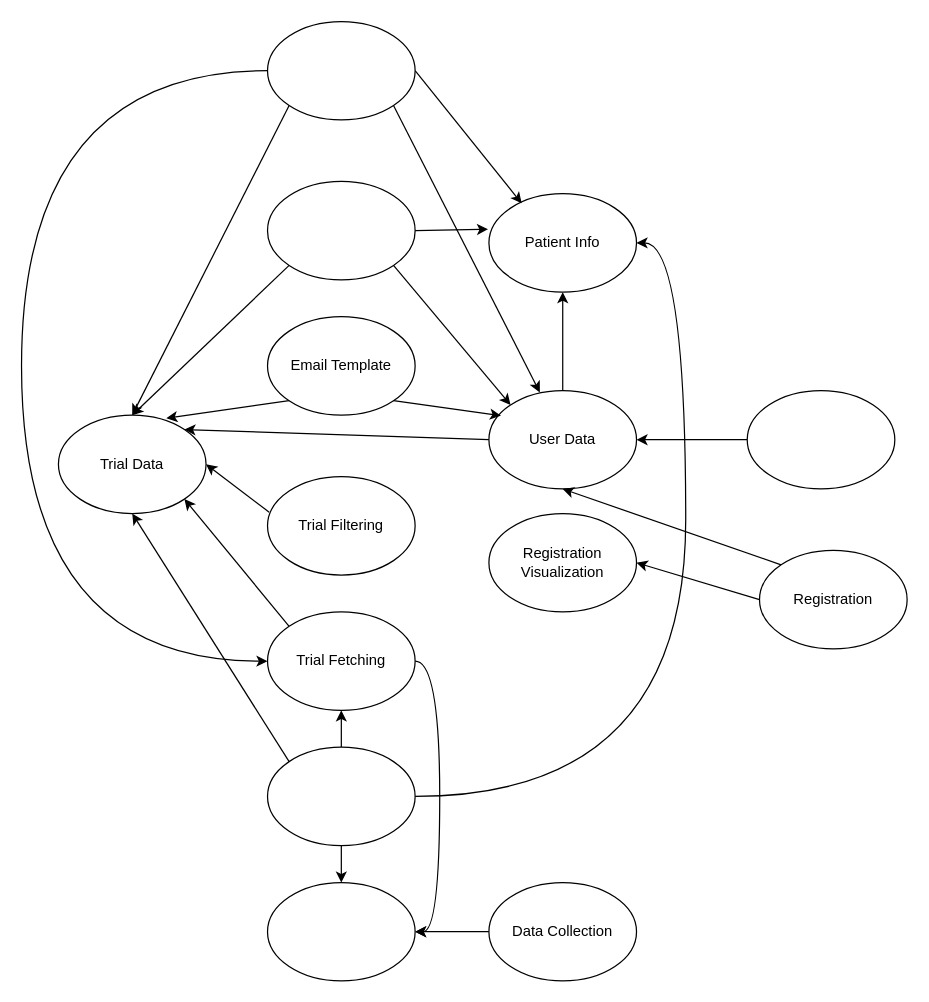
The diagram is 929 pixels wide and 1002 high, and some of its shapes have lost their labels. Each missing label, with the centre of its shape:
Base UI: (340,931)
Email Notification: (340,230)
Login: (820,439)
Trial Display: (340,796)
User Profile: (340,70)
